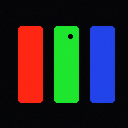0 point: (68, 34, 72, 38)
